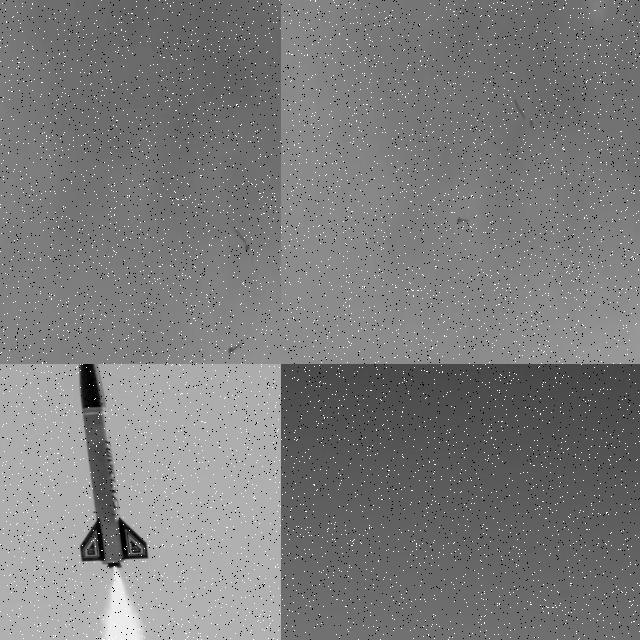Rocket: (76, 364, 151, 567), (228, 343, 240, 355), (457, 216, 469, 225)
